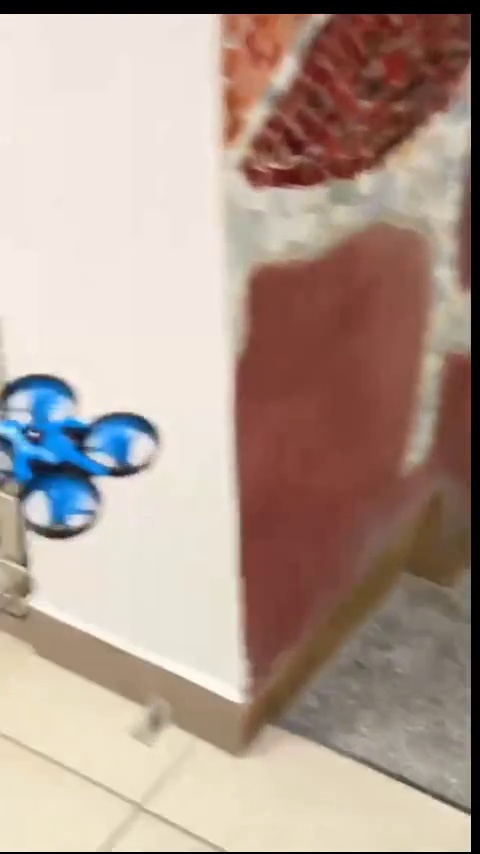drone: (0, 369, 168, 557)
